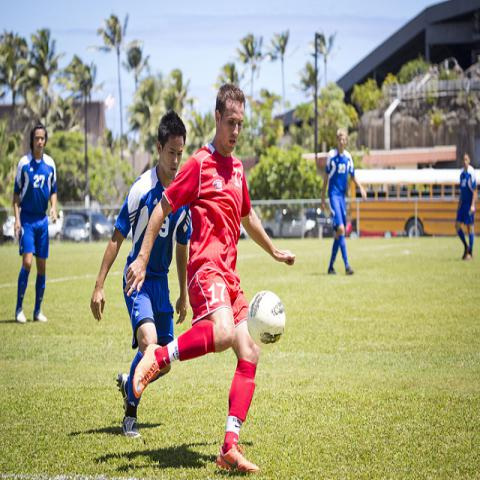bus: (356, 165, 462, 239)
car: (260, 206, 319, 240), (303, 206, 334, 238), (61, 212, 89, 241), (90, 212, 114, 240), (48, 208, 64, 239), (108, 207, 123, 222)
